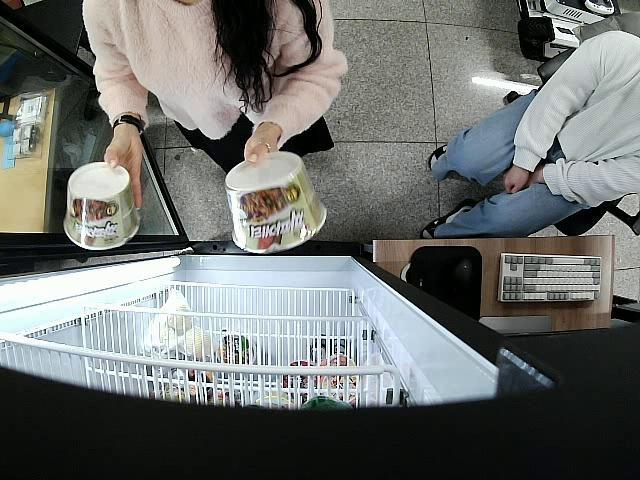03_chapagetti_L: (226, 152, 328, 255), (64, 160, 140, 250)
